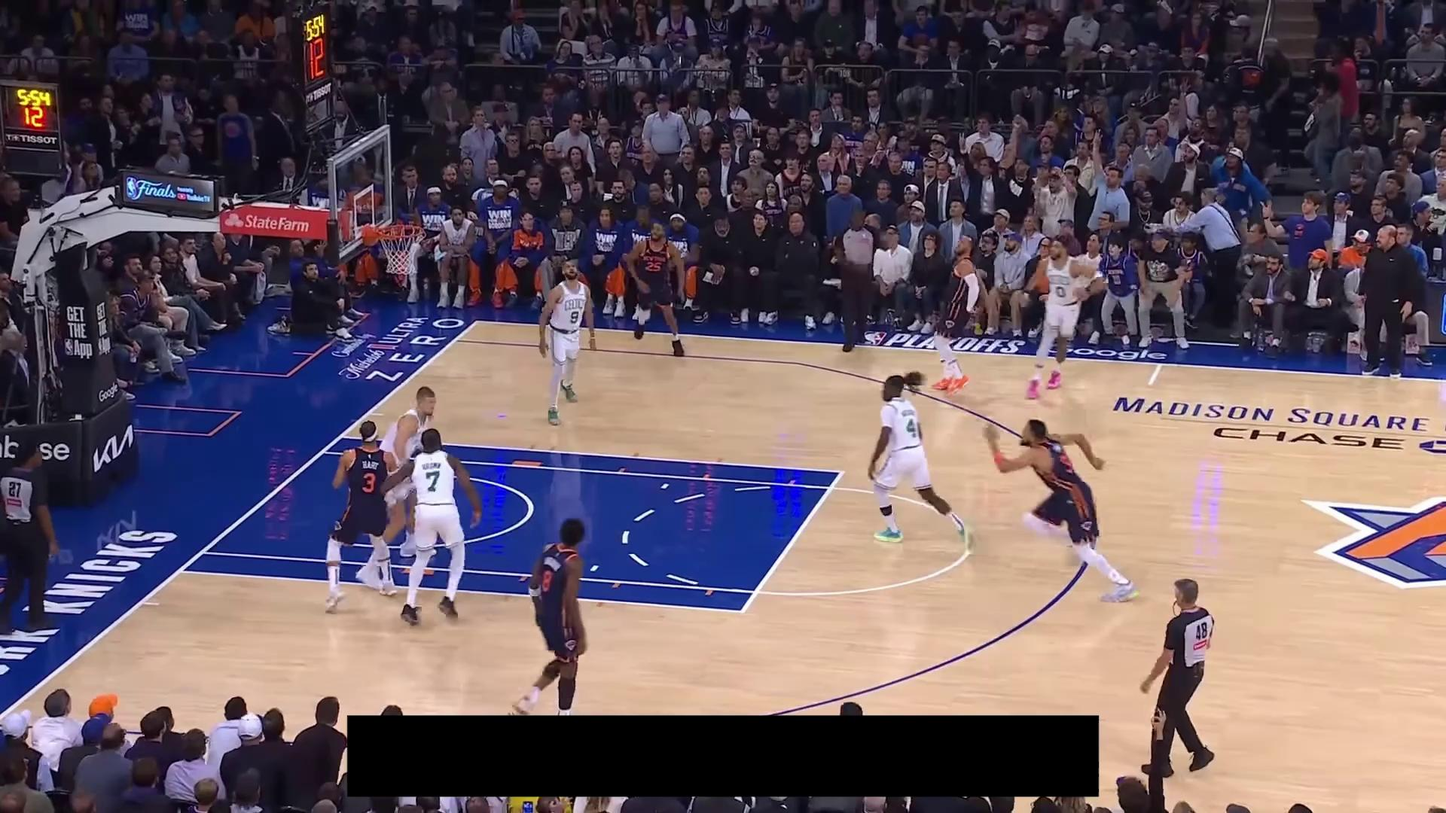number: (425, 470, 441, 492), (361, 471, 377, 493), (905, 418, 919, 439), (541, 570, 554, 591), (645, 260, 662, 273), (1054, 284, 1066, 299), (569, 309, 580, 325)
player: (980, 417, 1142, 606), (379, 428, 483, 628), (866, 371, 975, 553), (356, 386, 437, 591), (507, 516, 590, 715), (323, 419, 401, 614), (1021, 236, 1105, 401), (537, 259, 597, 426), (929, 232, 990, 393), (621, 219, 687, 358)
referee: (1139, 577, 1216, 778), (0, 446, 61, 635), (832, 208, 892, 353)
rim: (377, 224, 426, 239)
